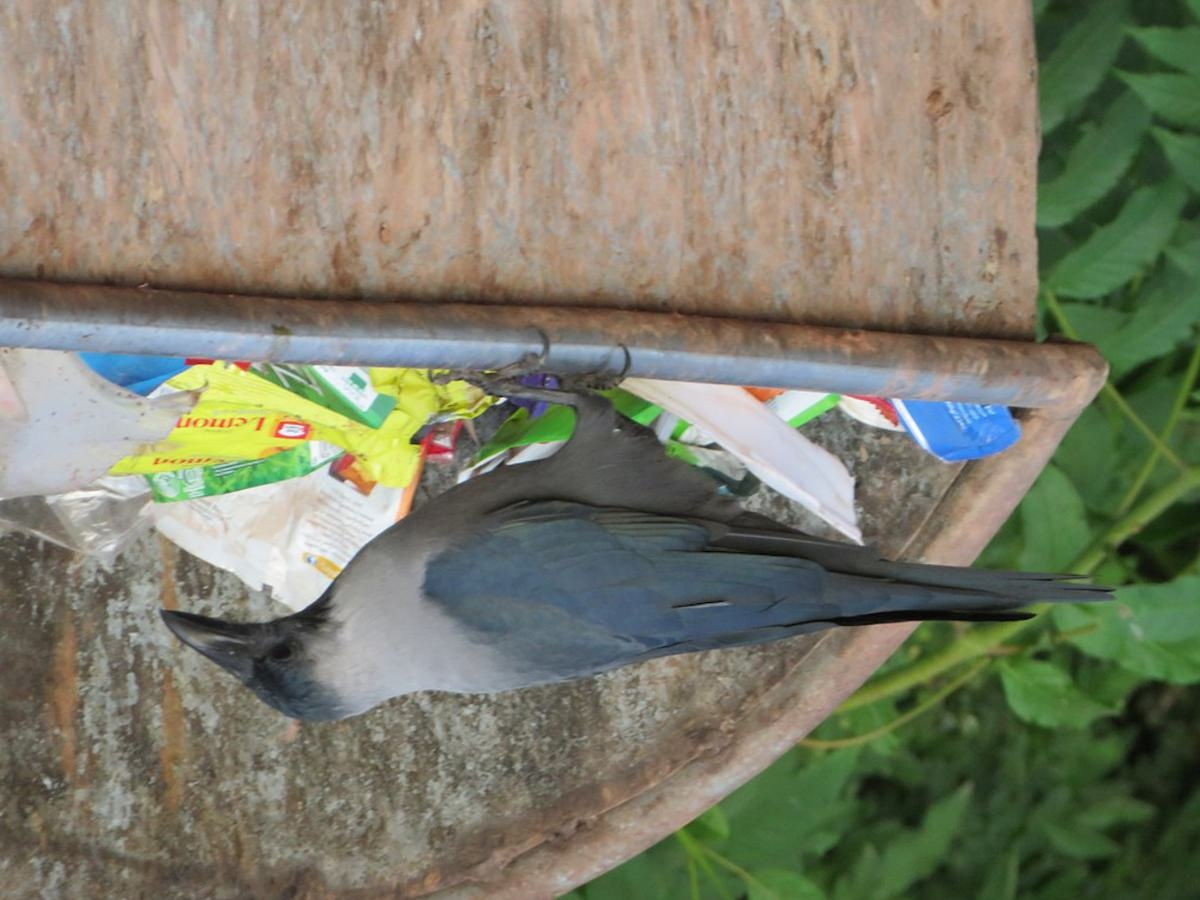crow: (190, 410, 1112, 719)
